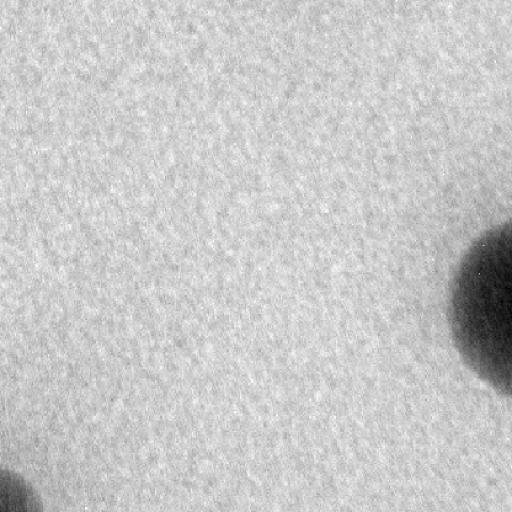Nanoparticles: (444, 213, 512, 396), (2, 461, 46, 512)
